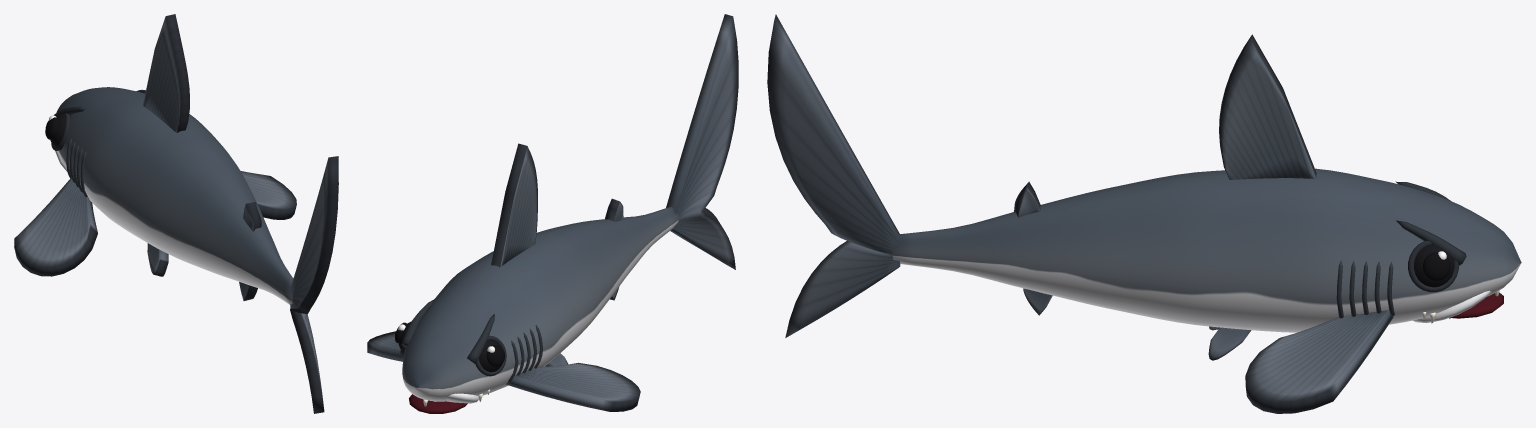
File: GreatWhiteShark.glb
3 renders of one model, left to right at view 1: azimuth 30°, elevation 25°; view 2: azimuth 150°, elevation 25°; view 3: azimuth 270°, elevation 25°, orthographic. The views are drawn at different scales.
Parts seen in each view (by area): view 1: GreatWhiteShark; view 2: GreatWhiteShark; view 3: GreatWhiteShark.
Part boxes in pixels (x1,y1,x2,y2): GreatWhiteShark: (14,14,338,413); GreatWhiteShark: (367,14,738,413); GreatWhiteShark: (767,14,1521,413).
Bounding box in the file's own units: 3.24 × 2.97 × 6.22.
Materials: 1 (1 with a texture image).
